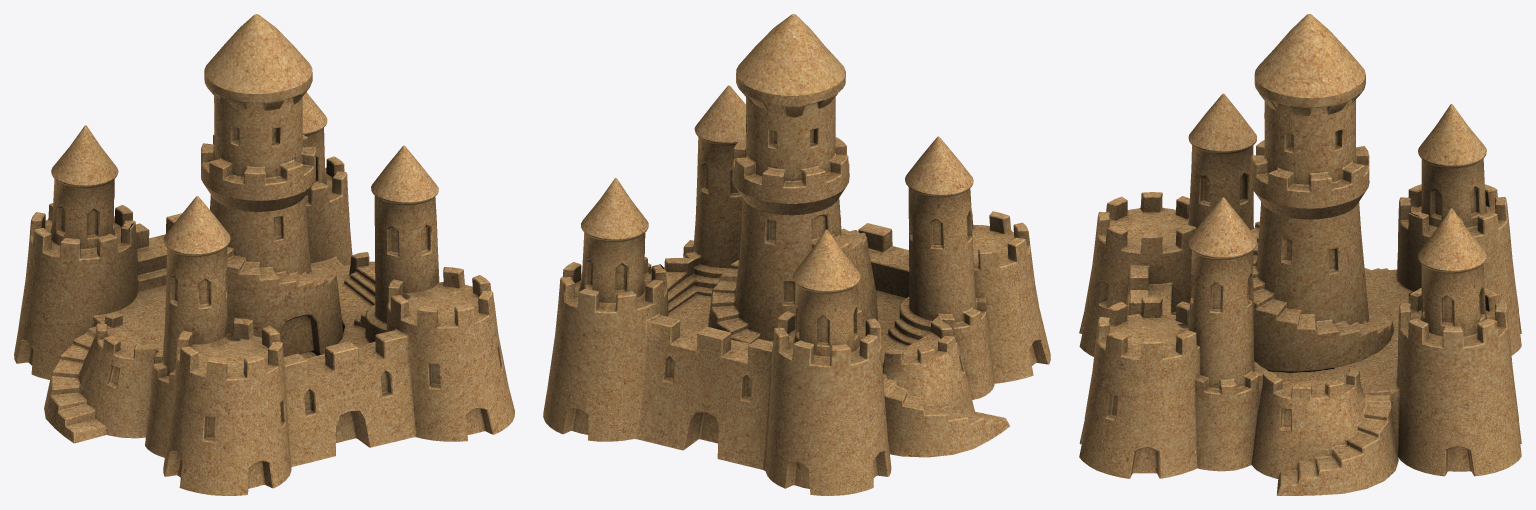
The model's file is SandCastle.obj.
The picture shows the model from 3 angles, left to right: view 1: azimuth 30°, elevation 25°; view 2: azimuth 150°, elevation 25°; view 3: azimuth 270°, elevation 25°; orthographic projection. The views are drawn at different scales.
Parts seen in each view (by area): view 1: Cylinder.001_Cylinder.002, Cylinder.002_Cylinder.007; view 2: Cylinder.001_Cylinder.002, Cylinder.002_Cylinder.007; view 3: Cylinder.001_Cylinder.002, Cylinder.002_Cylinder.007.
Boxes of the visible parts, x1,y1,x2,y2 form: Cylinder.001_Cylinder.002: (14,92,514,495); Cylinder.002_Cylinder.007: (201,14,343,356); Cylinder.001_Cylinder.002: (543,85,1050,495); Cylinder.002_Cylinder.007: (708,14,877,343); Cylinder.001_Cylinder.002: (1079,93,1521,495); Cylinder.002_Cylinder.007: (1250,14,1393,371).
Bounding box in the file's own units: 9.07 × 7.95 × 8.42.
